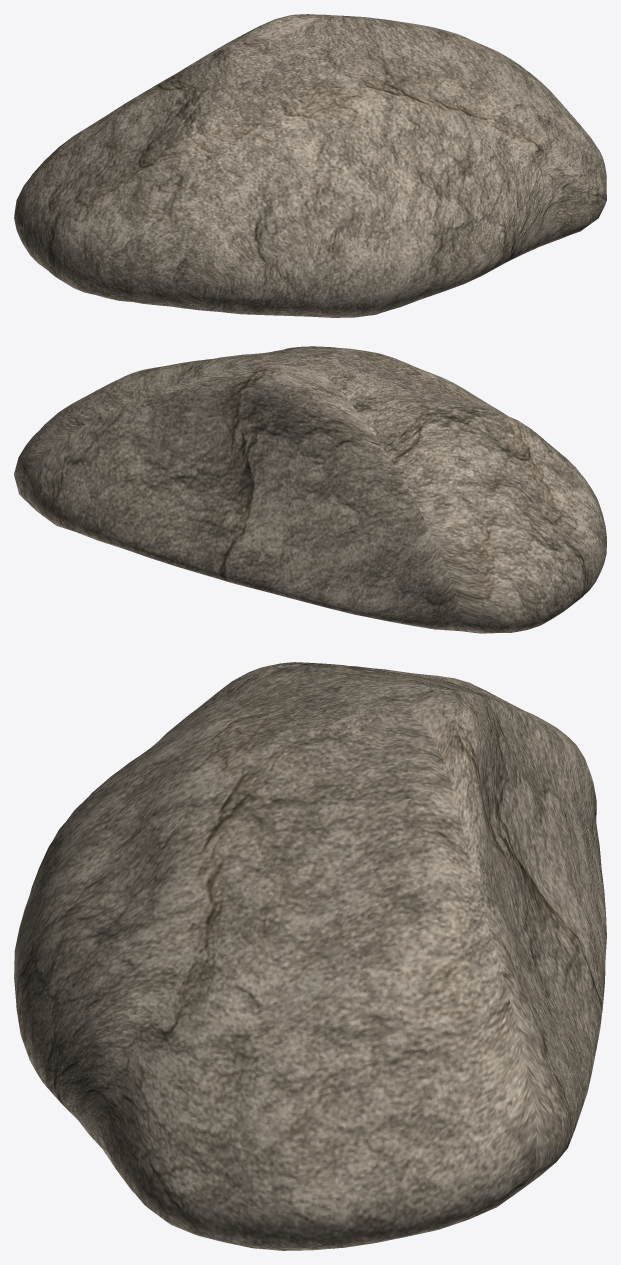
File: StoneOreNodeV1.fbx
3 renders of one model, top to bottom at view 1: azimuth 30°, elevation 25°; view 2: azimuth 150°, elevation 25°; view 3: azimuth 270°, elevation 25°, orthographic. The views are drawn at different scales.
Visible parts, largest first — view 1: rock; view 2: rock; view 3: rock.
Part boxes in pixels (x1=…): rock: x1=14, y1=14, x2=606, y2=317; rock: x1=14, y1=346, x2=606, y2=633; rock: x1=14, y1=662, x2=606, y2=1250.
Bounding box in the file's own units: 131 × 50.12 × 75.73.
